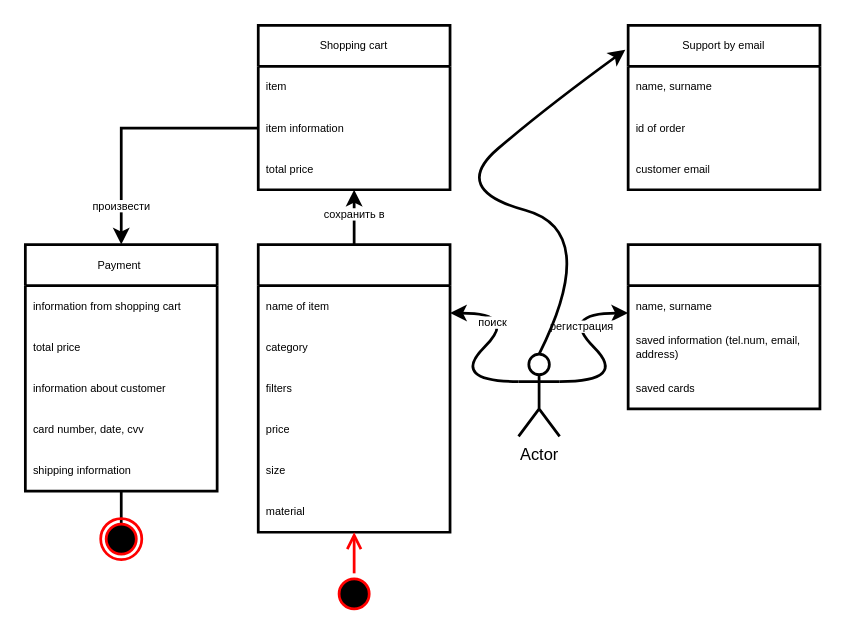
This 844x638 diagram has some shape labels left out. The box of each missing label's shape, as (x1, y1, x2, y2) in pixels:
Items: (256, 242, 451, 533)
Profile: (626, 242, 821, 410)
